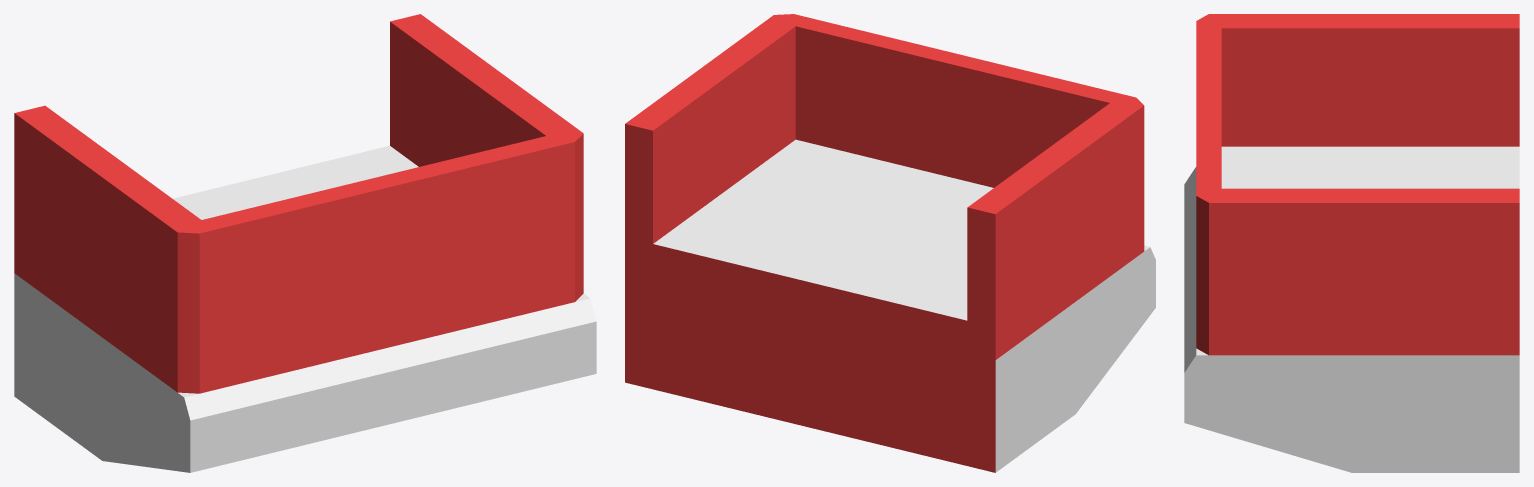
Rendered from Chair1.fbx.
3 views of the same model, side by side, from view 1: azimuth 30°, elevation 25°; view 2: azimuth 150°, elevation 25°; view 3: azimuth 270°, elevation 25° (orthographic). The views are drawn at different scales.
Parts seen in each view (by area): view 1: trunk_bed_6; view 2: trunk_bed_6; view 3: trunk_bed_6.
Part boxes in pixels (<box>): trunk_bed_6: <box>14,14,596,472</box>; trunk_bed_6: <box>625,14,1155,472</box>; trunk_bed_6: <box>1184,14,1519,472</box>.
Bounding box in the file's own units: 8 × 5.34 × 6.
